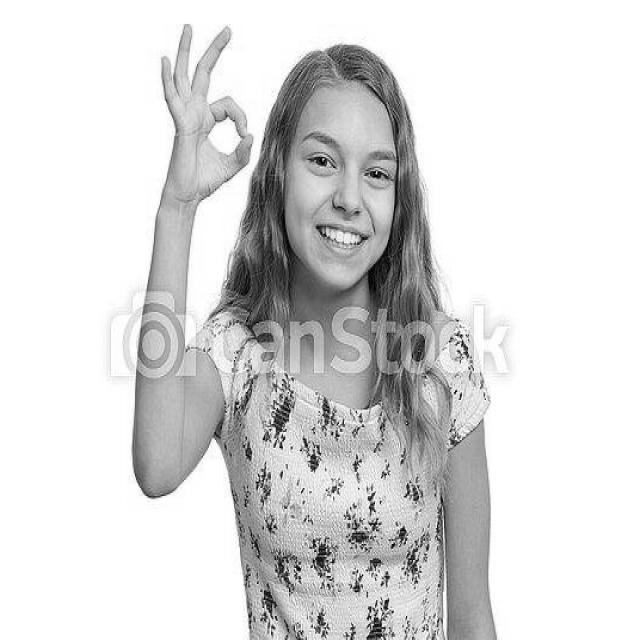perfect: (155, 11, 258, 228)
